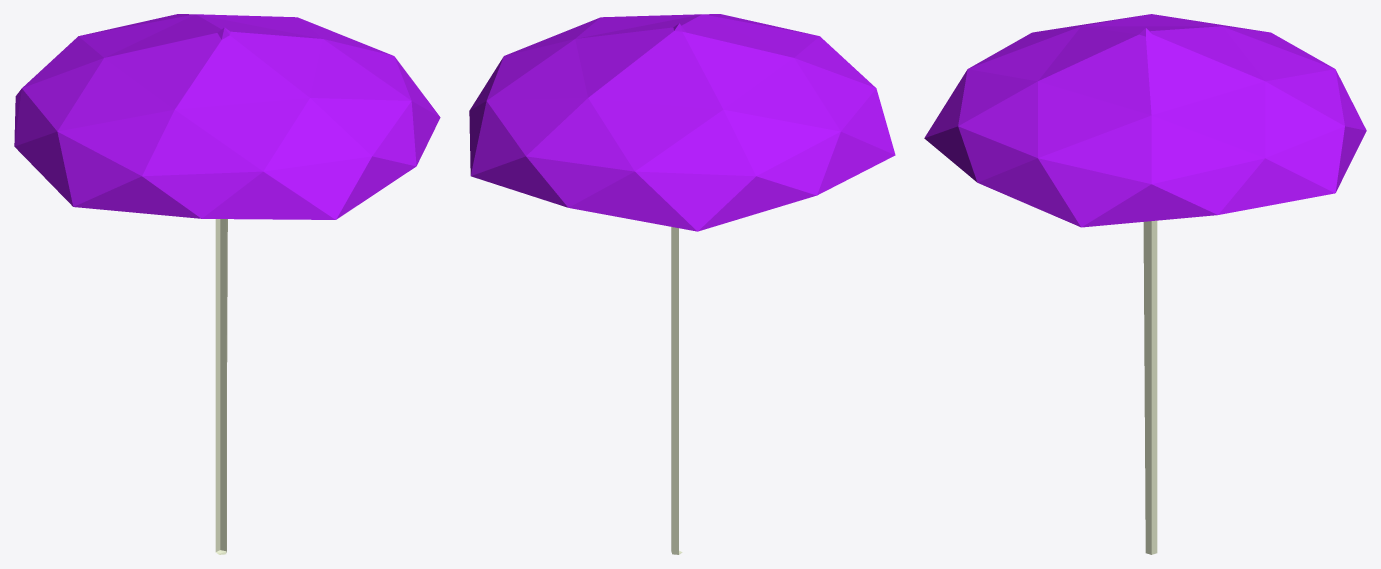
File: umbrella.fbx
3 renders of one model, left to right at view 1: azimuth 30°, elevation 25°; view 2: azimuth 150°, elevation 25°; view 3: azimuth 270°, elevation 25°, orthographic.
Visible parts, largest first — view 1: Umbrela, Umbrela.001; view 2: Umbrela, Umbrela.001; view 3: Umbrela, Umbrela.001.
Part boxes in pixels (<box>): Umbrela: <box>14,14,440,219</box>; Umbrela.001: <box>215,219,227,554</box>; Umbrela: <box>469,14,895,231</box>; Umbrela.001: <box>671,227,682,554</box>; Umbrela: <box>924,14,1366,227</box>; Umbrela.001: <box>1143,220,1157,554</box>.
Size of the model in its own units: 1290 by 1772 by 1354.
